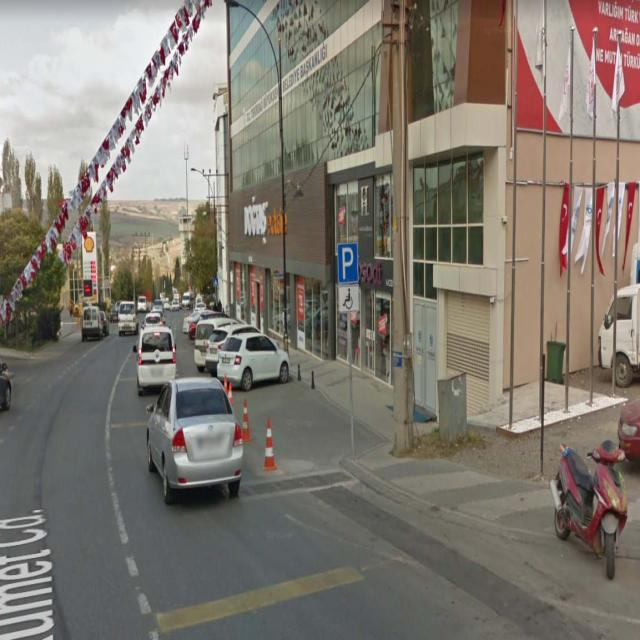park: (338, 244, 358, 283)
